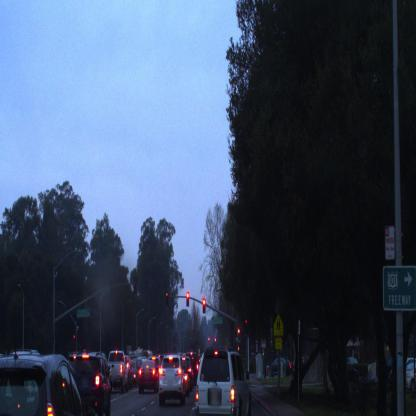car: (0, 352, 90, 415), (194, 348, 250, 416), (70, 354, 112, 415), (159, 355, 188, 406), (109, 351, 131, 391), (138, 359, 160, 393)
